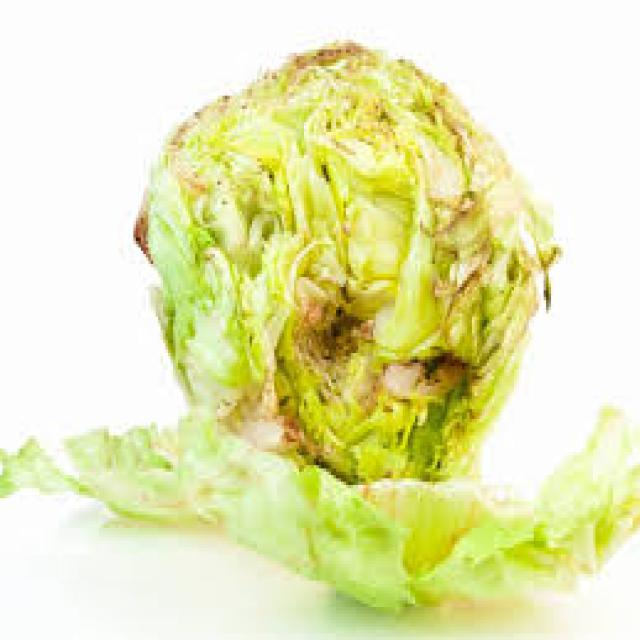food_waste: (0, 43, 638, 607)
